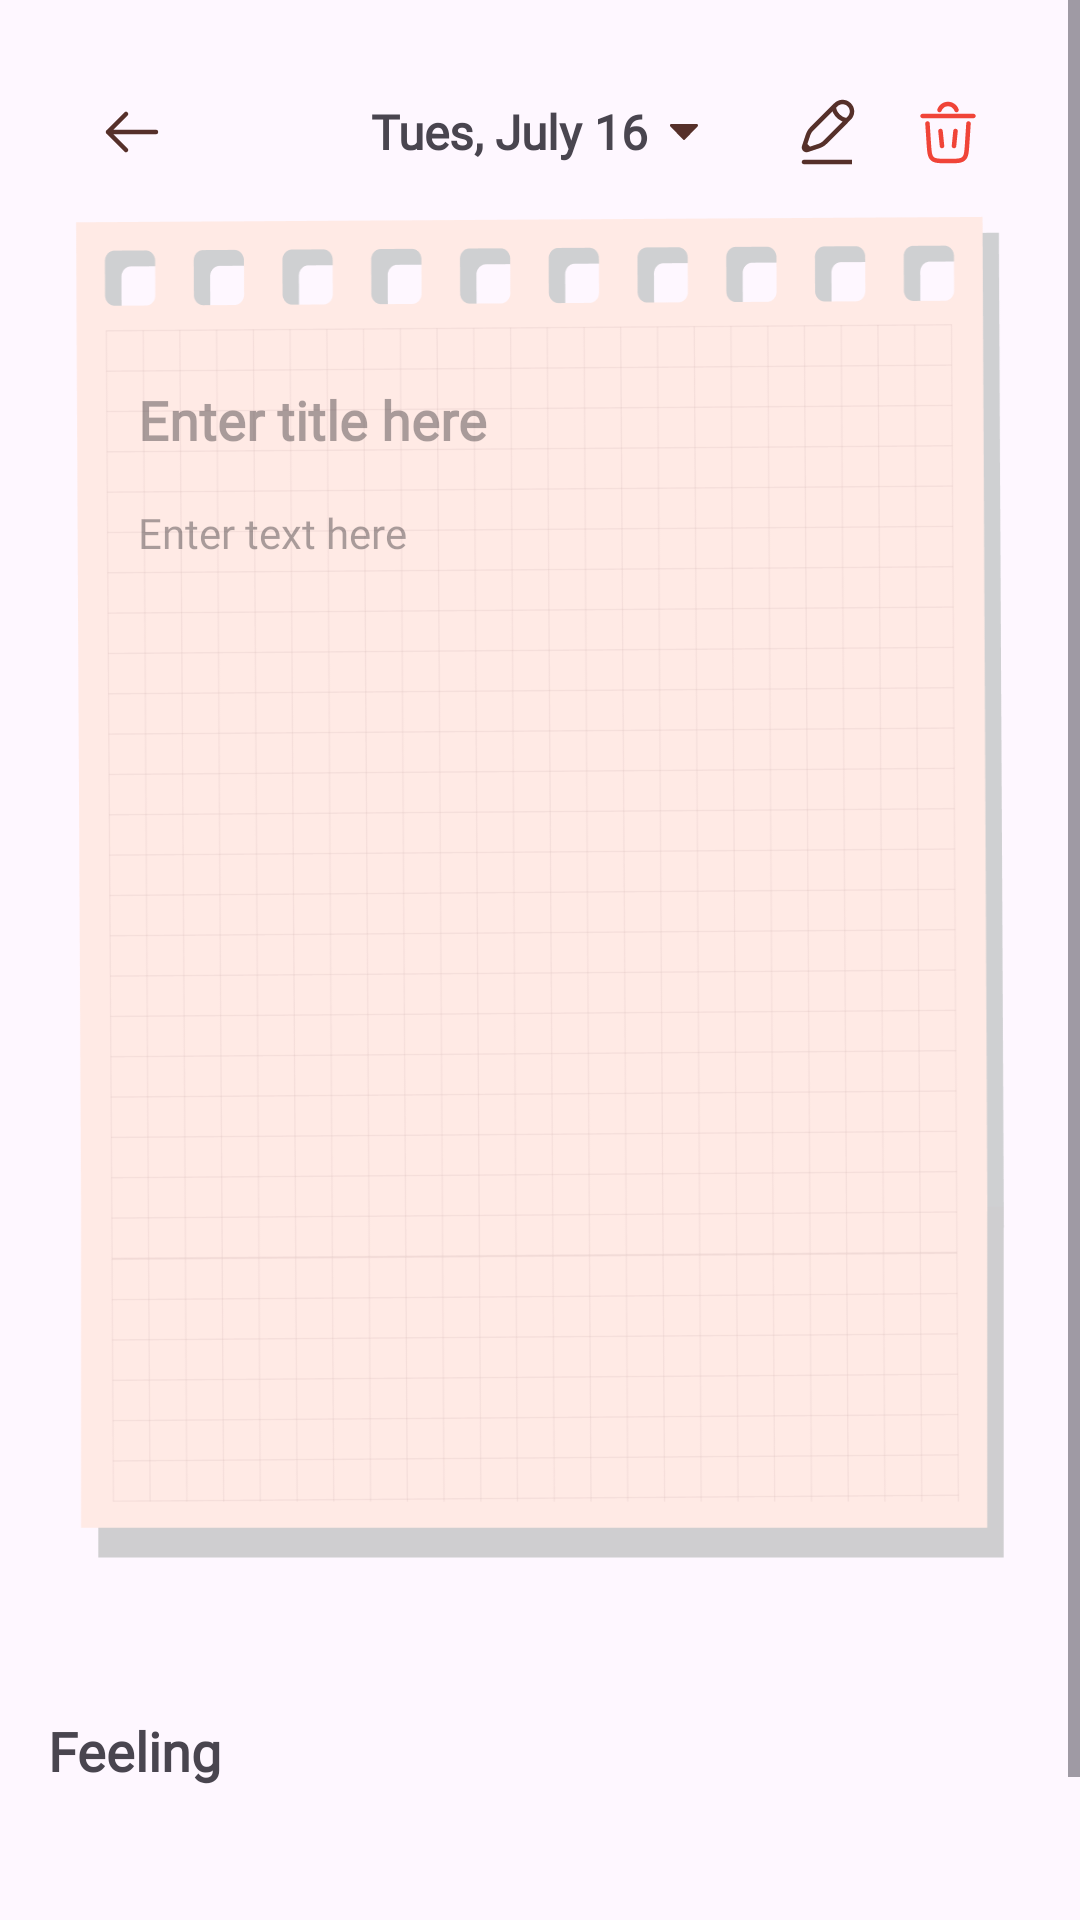

Where to tap for icons on this 1080 × 1920 app screen, as (x,y):
back: (131,132)
down: (684,132)
trash: (948,132)
